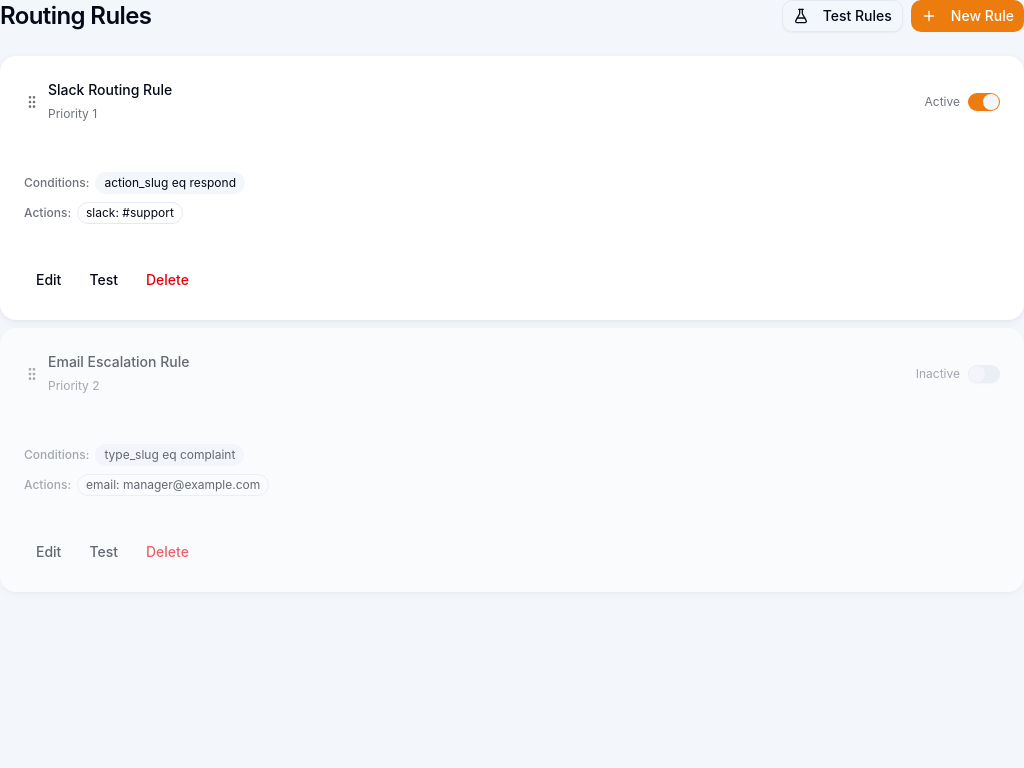
Test case: RoutingRulesPage › clicking 'New Rule' button opens RuleBuilder in create mode
Click the button "New Rule" at (967, 16), box 911,0 -> 1023,32
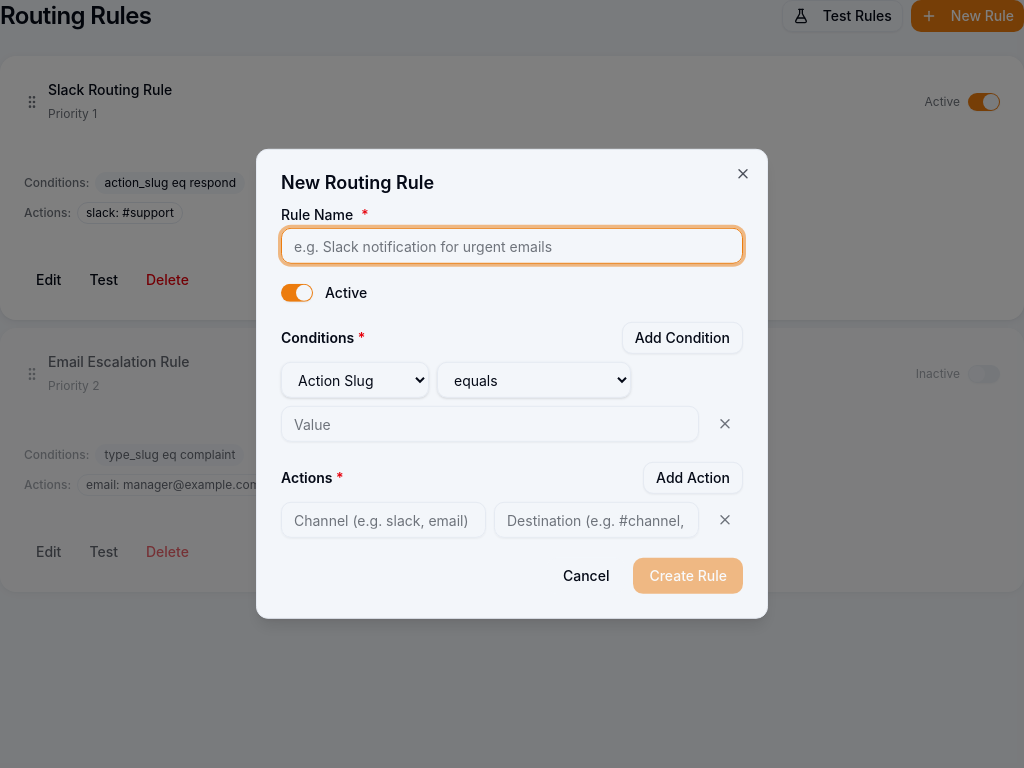
Check: the button "Cancel" is shown, box 547,558 -> 626,594
